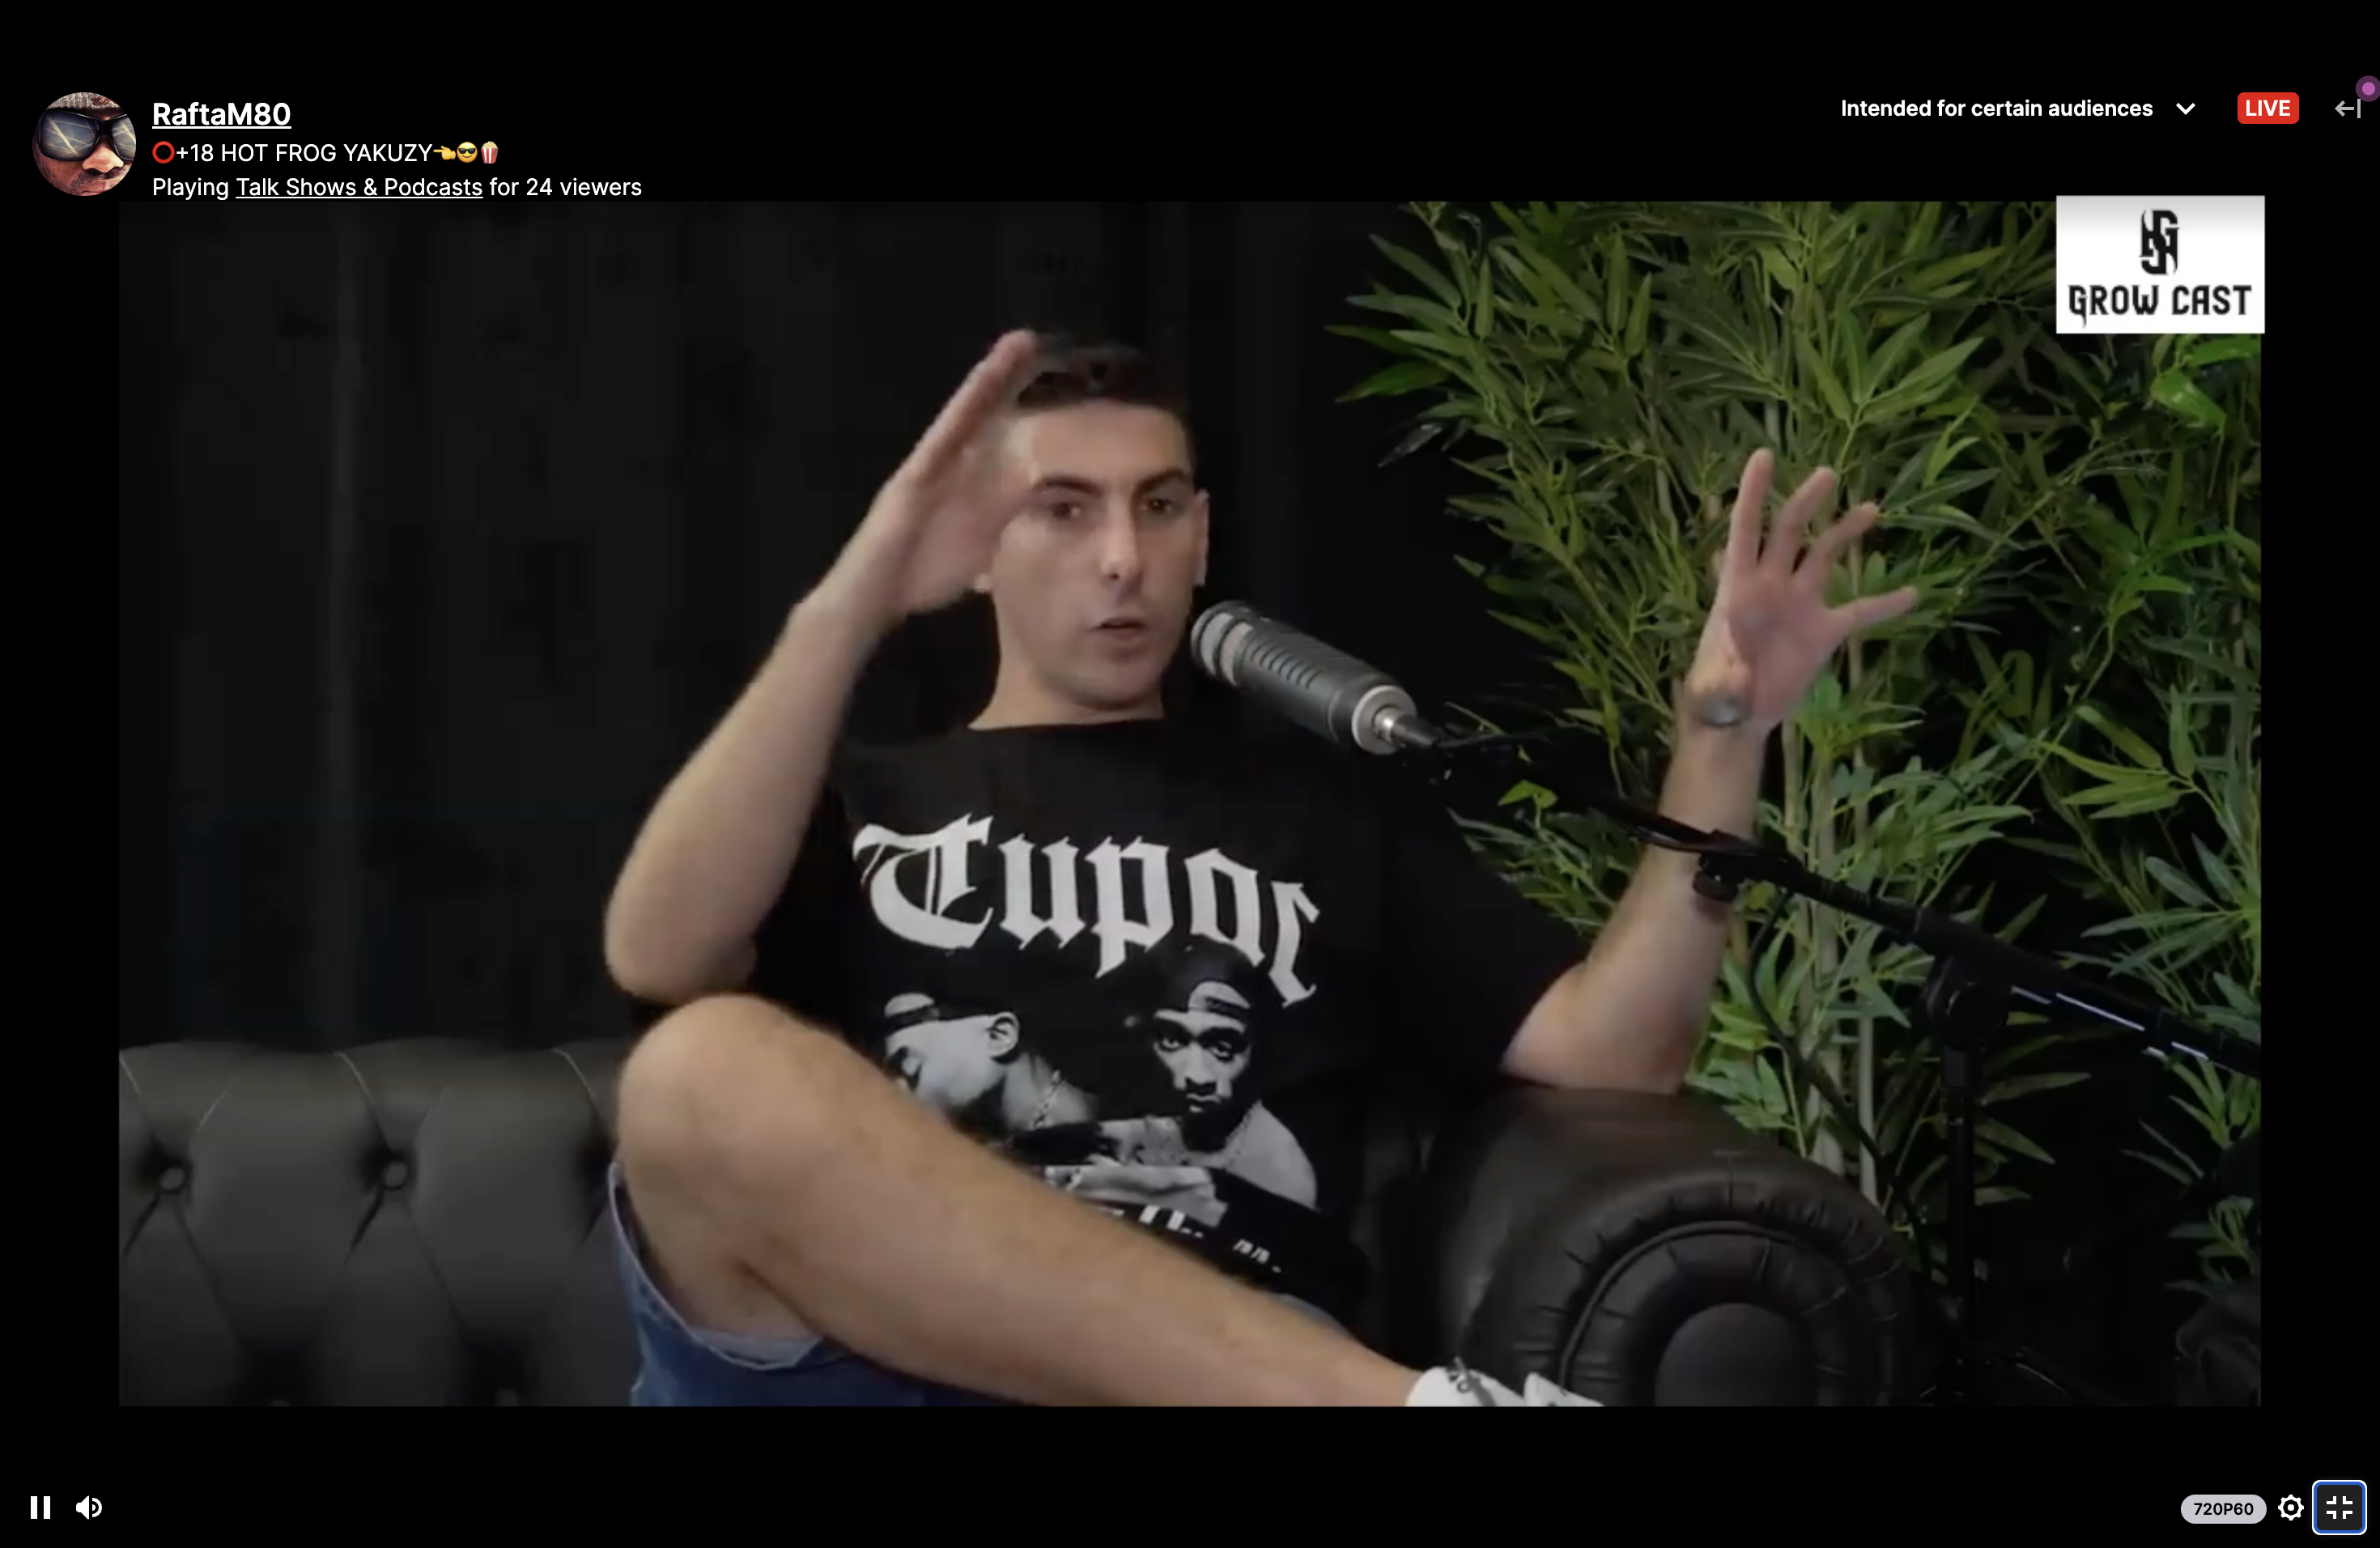person: (592, 321, 1919, 1410), (1011, 929, 1371, 1331), (1087, 929, 1324, 1218), (868, 946, 1094, 1150)
